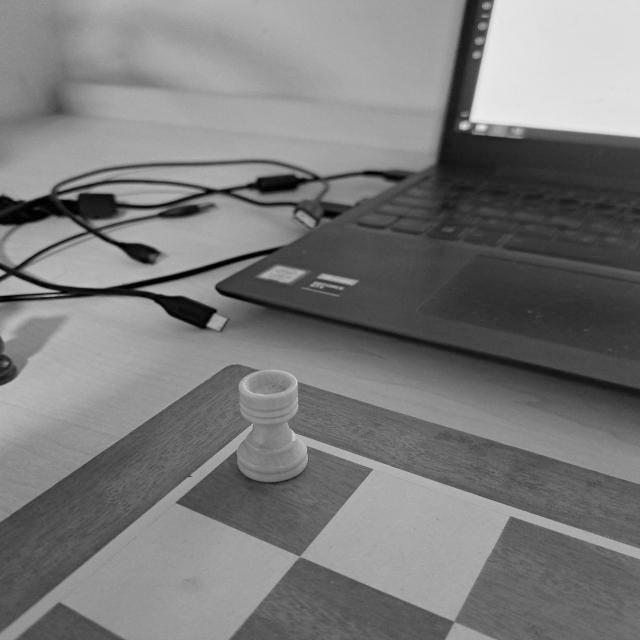chess-table-corners: (198, 403, 335, 467)
